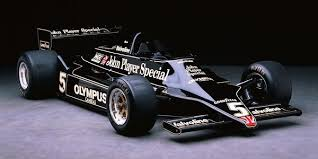f1_car: (12, 23, 312, 150)
